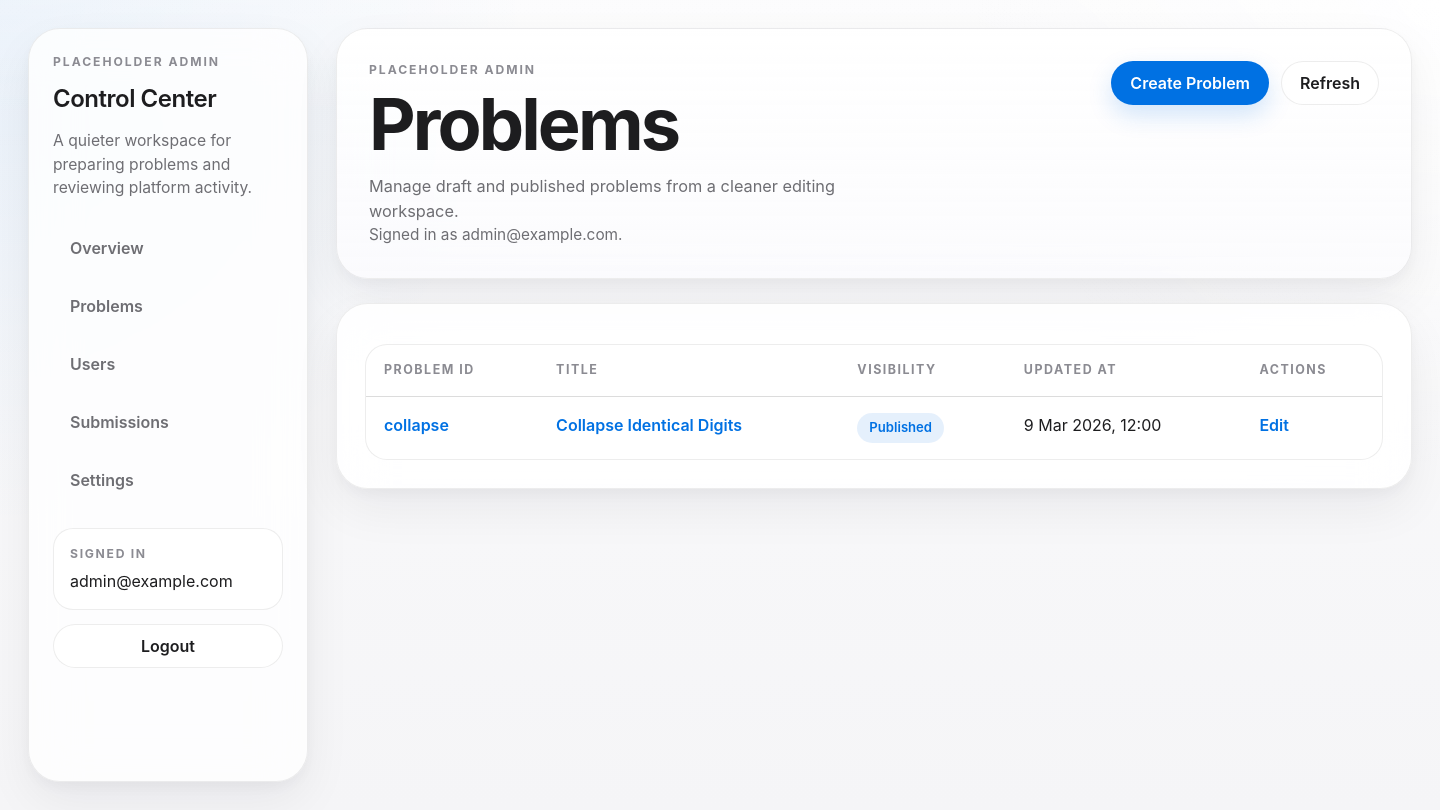
Test case: problems list page › renders fetched problem rows and refreshes the list
The image size is (1440, 810).
Check: the link "Collapse Identical Digits" is shown, box top-left (556, 415), bottom-right (742, 435)
Check: the column heading "Actions" is shown, box top-left (1241, 345), bottom-right (1382, 396)
Click the button "Refresh": click(1330, 83) top-left (1281, 61), bottom-right (1379, 105)
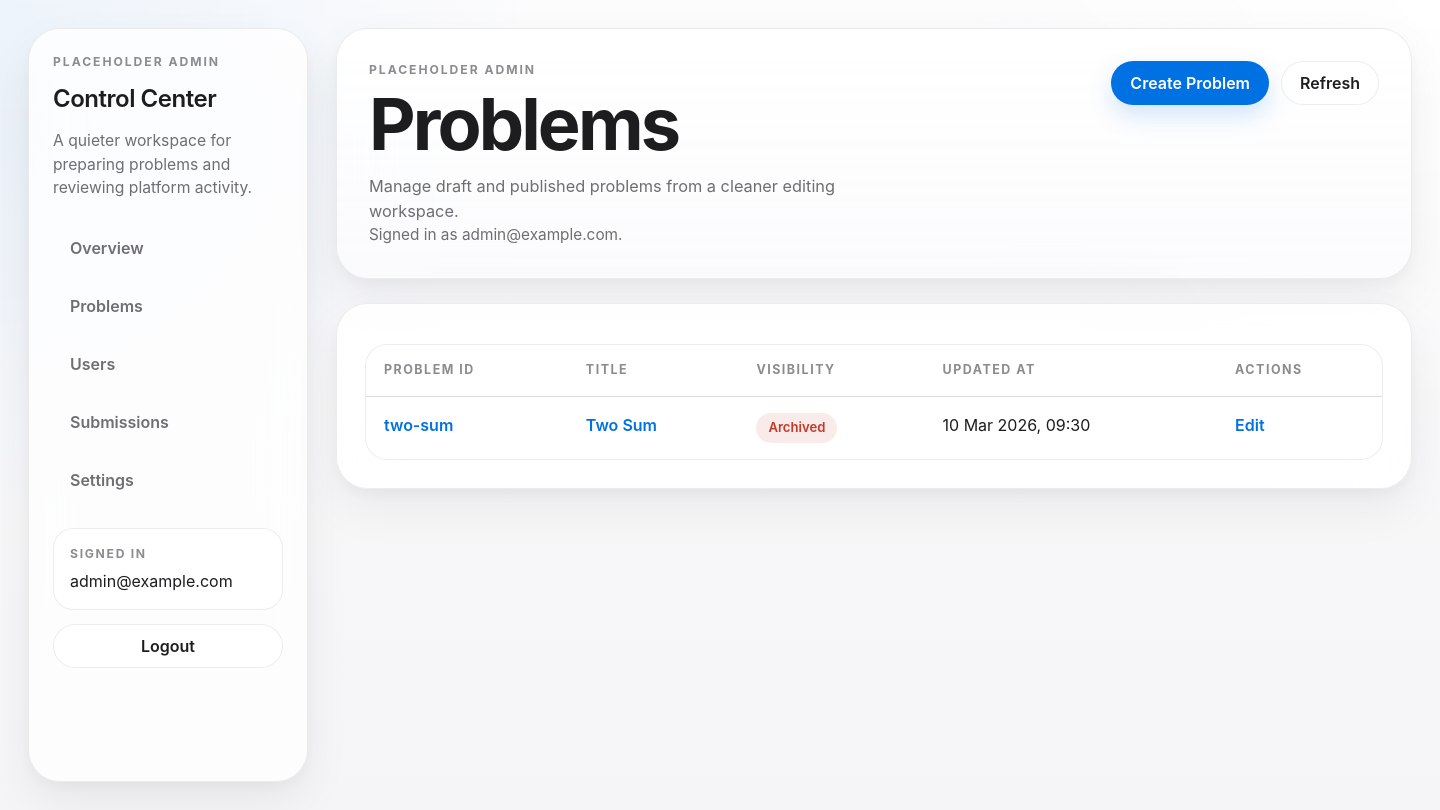
Check: the link "Two Sum" is shown, box top-left (586, 415), bottom-right (657, 435)
